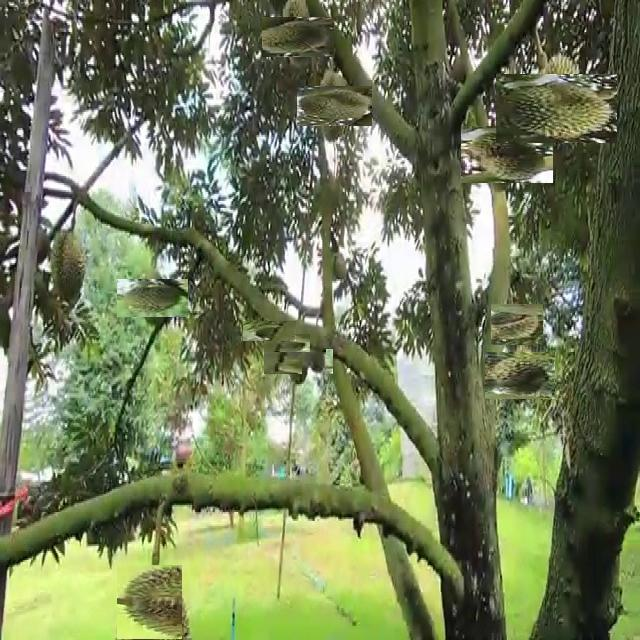durian: (509, 61, 604, 157), (469, 117, 545, 192), (113, 568, 186, 640), (47, 221, 93, 312), (305, 77, 363, 135), (491, 346, 549, 404), (270, 9, 327, 65), (125, 270, 180, 325), (275, 338, 323, 385), (493, 301, 540, 348), (250, 312, 288, 350), (302, 328, 326, 378), (271, 327, 304, 359)
